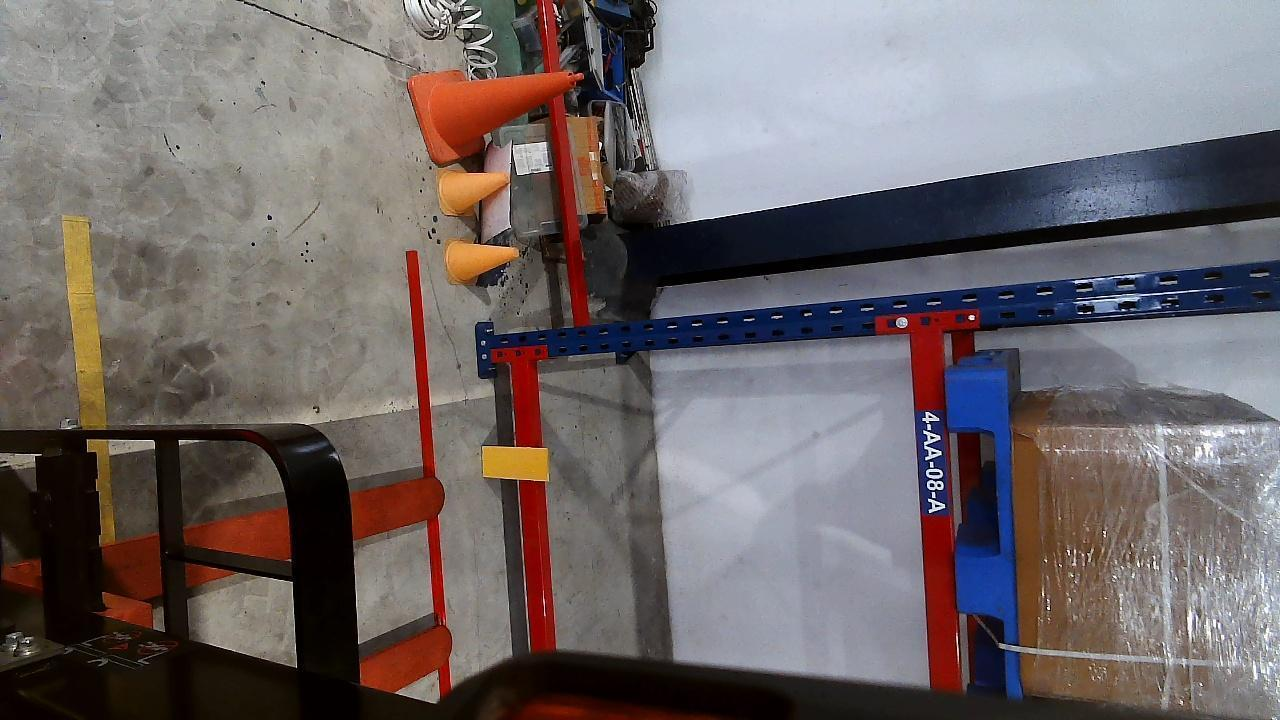red_line: (405, 251, 444, 657)
yellow_line: (62, 216, 107, 427)
